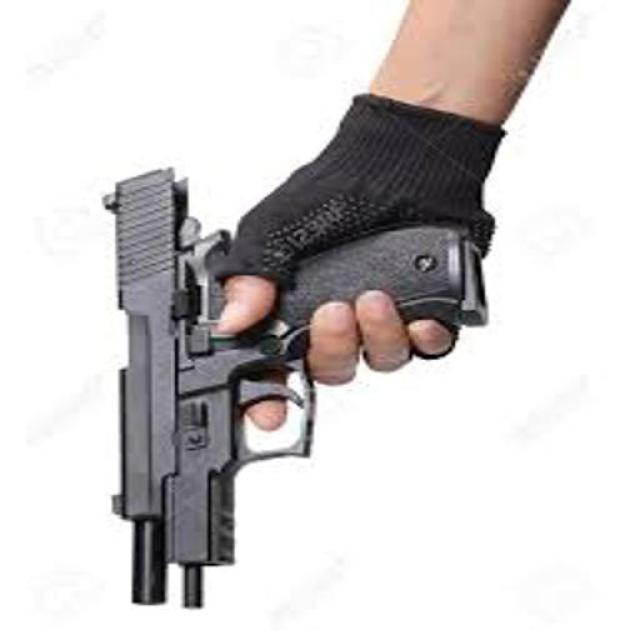pistol: (105, 166, 494, 610)
